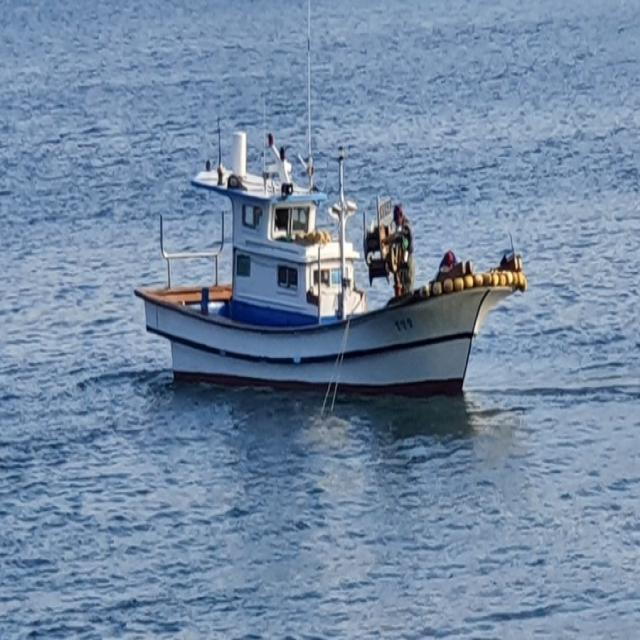Ship: (136, 87, 544, 427)
